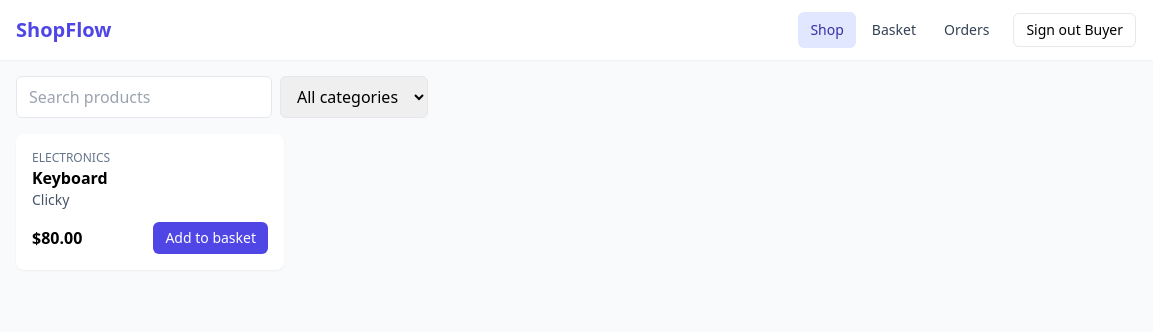
Test: shop › adds to the basket and reports stock errors
Click the button "Add to basket".
click(211, 238)  # box left=153, top=222, right=268, bottom=254
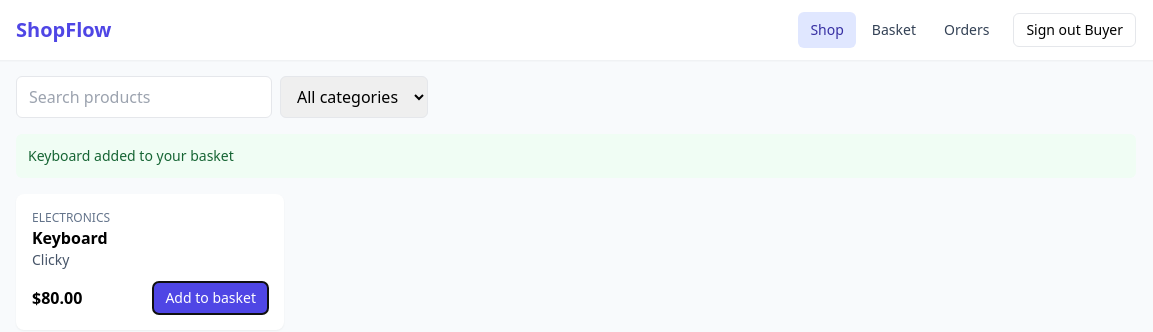
Expected: the message shows "Keyboard added", left=28, top=146, right=234, bottom=165
Click the button "Add to basket".
click(211, 298)  # box left=153, top=282, right=268, bottom=314
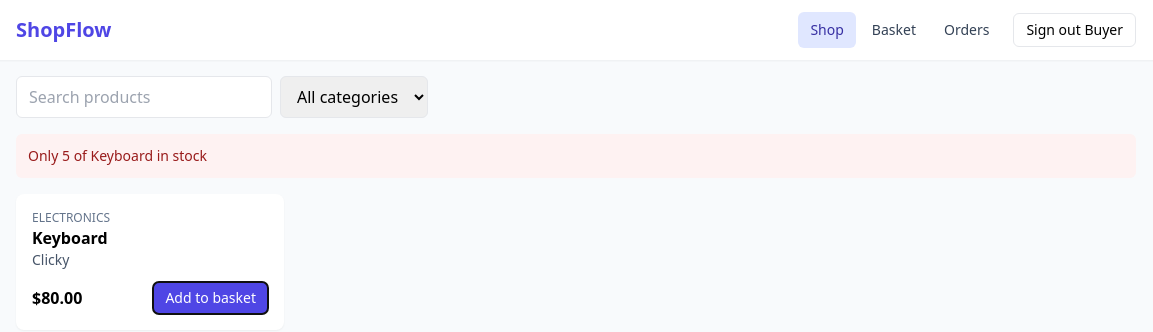
Expected: the message shows "Only 5 of Keyboard", left=28, top=146, right=207, bottom=165
